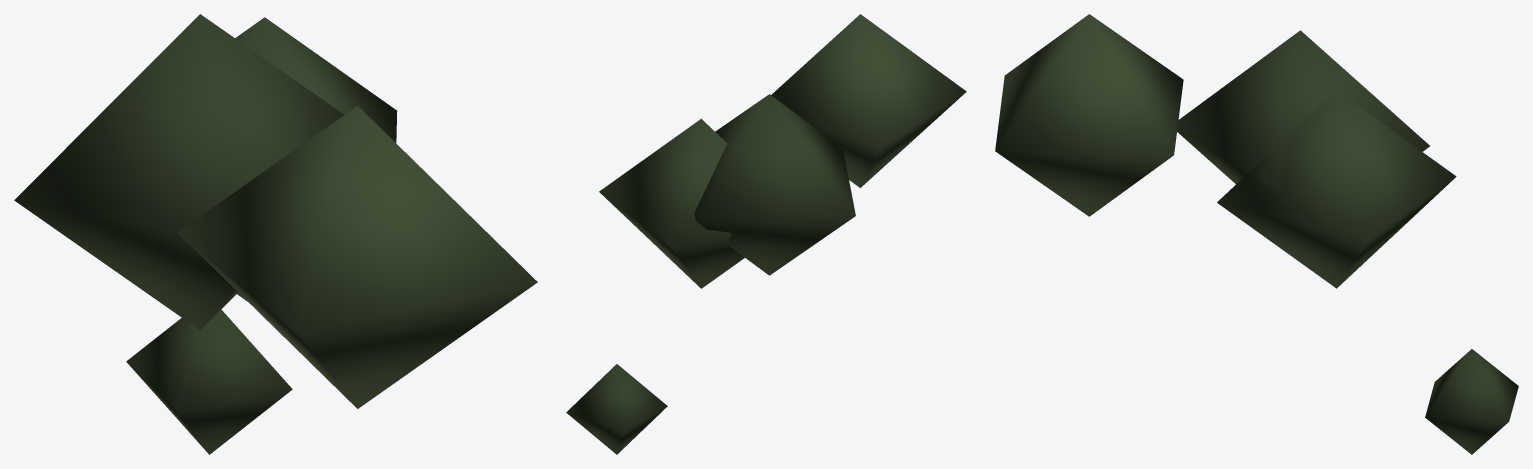
The model's file is canopy_far_5_3.glb.
The picture shows the model from 3 angles, left to right: view 1: azimuth 30°, elevation 25°; view 2: azimuth 150°, elevation 25°; view 3: azimuth 270°, elevation 25°; orthographic projection. The views are drawn at different scales.
Visible parts, largest first — view 1: canopy_far_5_3; view 2: canopy_far_5_3; view 3: canopy_far_5_3.
Part boxes in pixels (left/top/right/bottom): canopy_far_5_3: left=14, top=14, right=537, bottom=454; canopy_far_5_3: left=566, top=14, right=966, bottom=454; canopy_far_5_3: left=995, top=14, right=1518, bottom=454.
Size of the model in its own units: 10.71 by 14.59 by 17.49.
